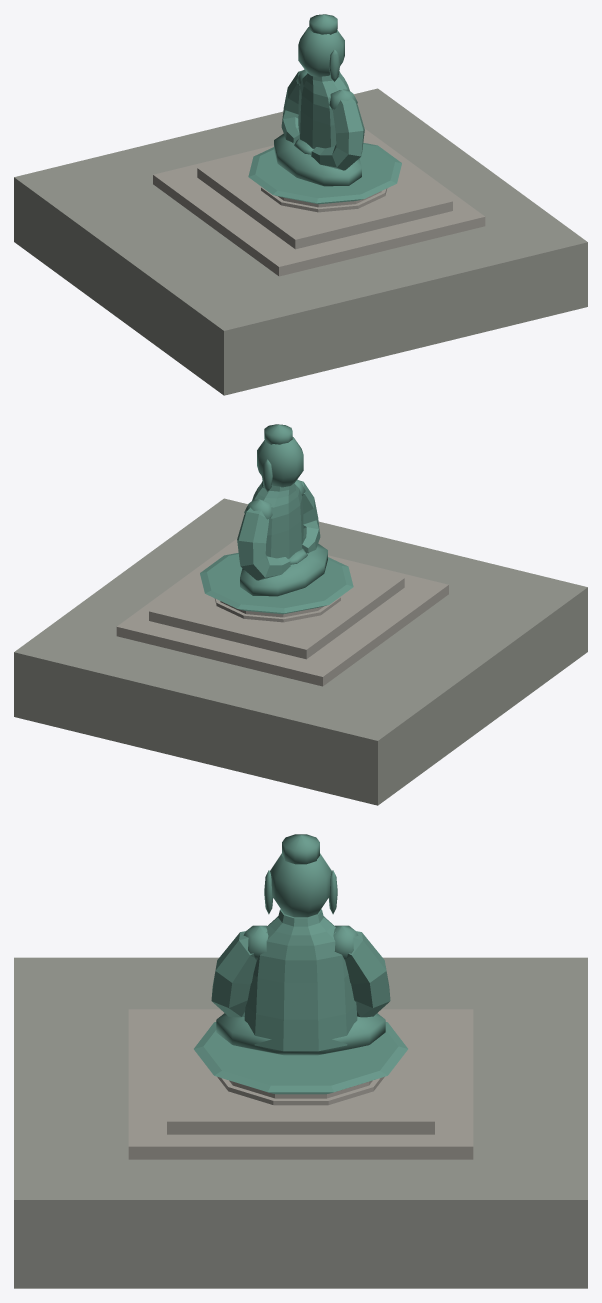
The model's file is far.fbx.
3 views of the same model, one above another, from view 1: azimuth 30°, elevation 25°; view 2: azimuth 150°, elevation 25°; view 3: azimuth 270°, elevation 25° (orthographic). The views are drawn at different scales.
Parts seen in each view (by area): view 1: landmark-great_buddha/0/far; view 2: landmark-great_buddha/0/far; view 3: landmark-great_buddha/0/far.
Boxes of the visible parts, bbox=[...] form: landmark-great_buddha/0/far: bbox=[14, 14, 587, 395]; landmark-great_buddha/0/far: bbox=[14, 424, 587, 805]; landmark-great_buddha/0/far: bbox=[14, 834, 587, 1288].
Size of the model in its own units: 60 by 40 by 60.
